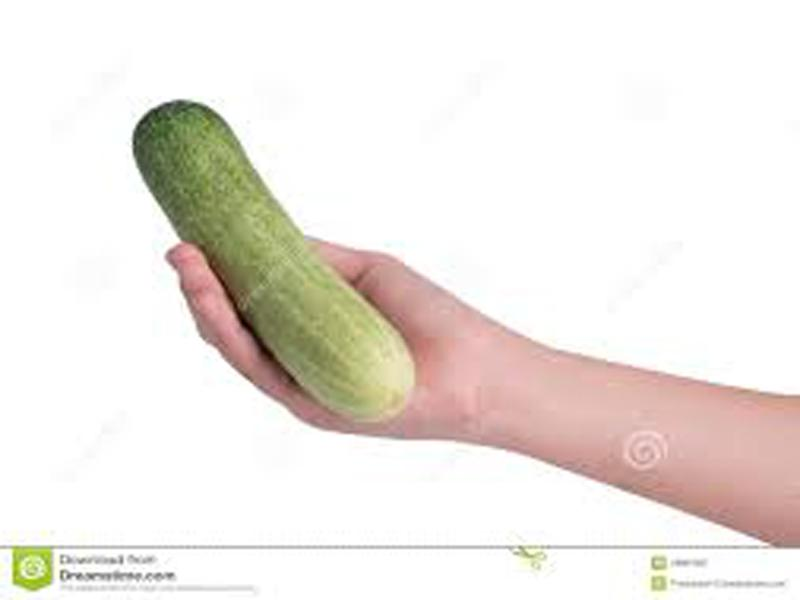Cucumber: (136, 103, 414, 419)
